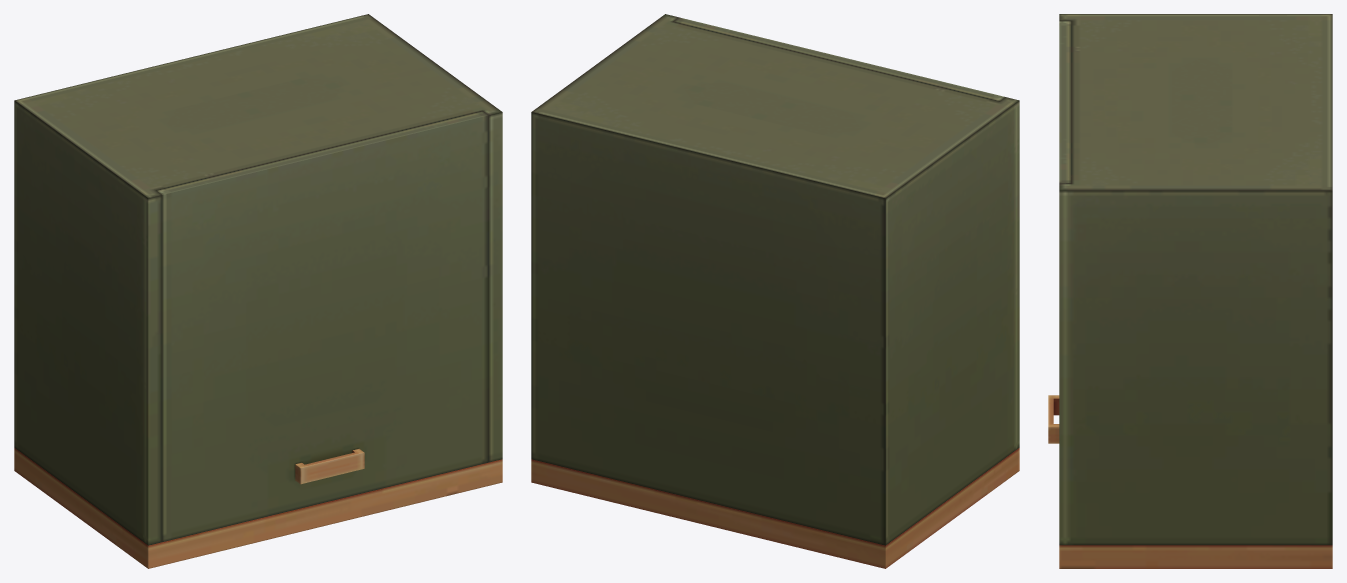
The model's file is superiorFrontal.fbx.
3 renders of one model, left to right at view 1: azimuth 30°, elevation 25°; view 2: azimuth 150°, elevation 25°; view 3: azimuth 270°, elevation 25°, orthographic. The views are drawn at different scales.
Parts seen in each view (by area): view 1: s4studio_mesh_0; view 2: s4studio_mesh_0; view 3: s4studio_mesh_0.
Part boxes in pixels (bbox=[...]): s4studio_mesh_0: bbox=[14, 14, 502, 568]; s4studio_mesh_0: bbox=[531, 14, 1019, 568]; s4studio_mesh_0: bbox=[1048, 14, 1332, 568].
Bounding box in the file's own units: 100 × 99.98 × 68.11.
Materials: 1 (1 with a texture image).
